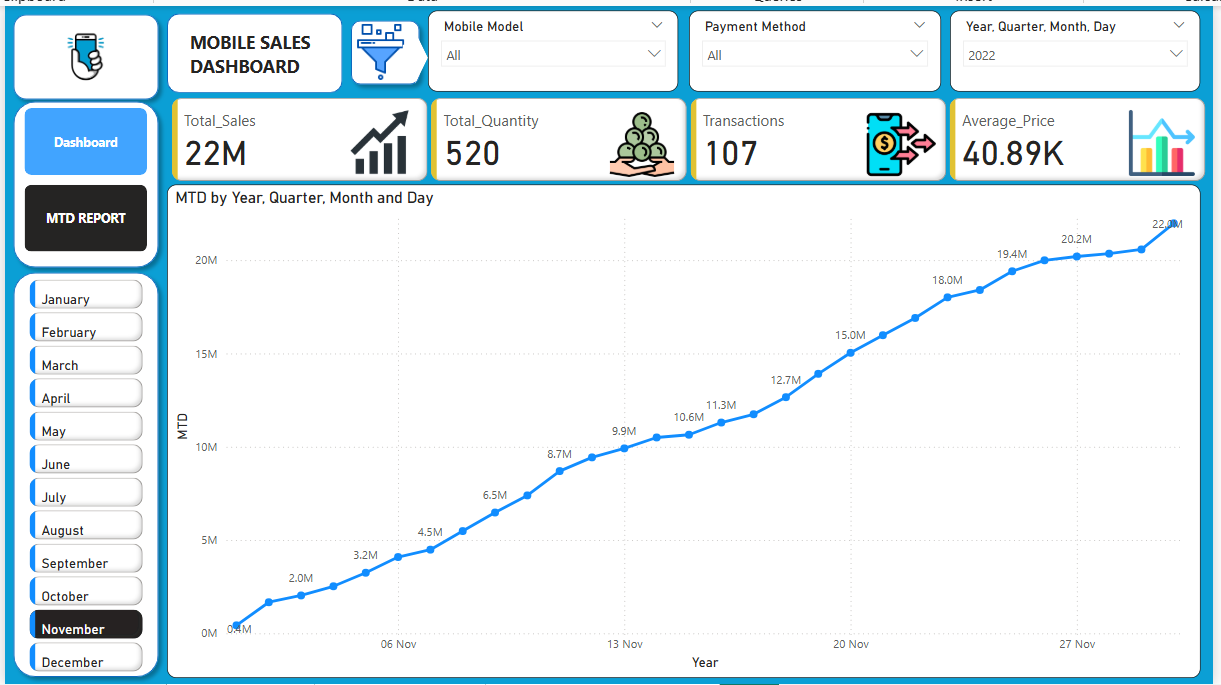

This screenshot's page, from the dashboard's own definition file:
{"tool":"powerbi","page":{"name":"MTD REPORT","canvas":[1280,720],"ordinal":1},"visuals":[{"type":"shape","box":[0,0,171.8,108.2],"z":0},{"type":"image","box":[20.7,15.9,130.4,76.3],"z":1000},{"type":"shape","box":[0,92.3,171.8,194.1],"z":2000},{"type":"cardVisual","fields":{"Data":["Sales_Data.Total_Sales","Sales_Data.Total_Quantity","Sales_Data.Transactions","Sales_Data.Average_Price"]},"box":[171.7,91.7,1108.3,98.3],"z":3000},{"type":"slicer","fields":{"Values":["Sales_Data.Mobile Model"]},"box":[448.6,4.8,265.6,85.9],"z":4000},{"type":"slicer","fields":{"Values":["Sales_Data.Payment Method"]},"box":[725.3,4.8,267.2,85.9],"z":5000},{"type":"slicer","fields":{"Values":["custom_calender.Date.Variation.Date Hierarchy.Year","custom_calender.Date.Variation.Date Hierarchy.Quarter","custom_calender.Date.Variation.Date Hierarchy.Month","custom_calender.Date.Variation.Date Hierarchy.Day"]},"box":[1002.1,4.8,265.6,85.9],"z":6000},{"type":"shape","box":[357.9,6.4,90.7,85.9],"z":7000},{"type":"image","box":[216.3,12.7,364.2,71.6],"z":8000},{"type":"shape","box":[421.5,27,27,55.7],"z":9000},{"type":"shape","box":[171.8,8,186.1,84.3],"z":10000},{"type":"textbox","box":[190.9,20.7,147.9,65.2],"z":11000},{"type":"lineChart","fields":{"Category":["custom_calender.Date.Variation.Date Hierarchy.Year","custom_calender.Date.Variation.Date Hierarchy.Quarter","custom_calender.Date.Variation.Date Hierarchy.Month","custom_calender.Date.Variation.Date Hierarchy.Day"],"Y":["Sales_Data.MTD"]},"box":[171.8,189.3,1095.9,523.3],"z":12000},{"type":"shape","box":[0,273,171.8,447],"z":13000},{"type":"advancedSlicerVisual","fields":{"Values":["custom_calender.Date.Variation.Date Hierarchy.Month"]},"box":[20,285,130,428.3],"z":14000},{"type":"pageNavigator","box":[20.7,108.2,130.4,152.7],"z":14001}]}

Visuals, with their boxes in screenshot pixels (x1, y1, x2, y2), scaled from the page's 1280x720 canvas onto the 1221x685 screenshot:
shape: [x1=0, y1=0, x2=164, y2=103]
image: [x1=20, y1=15, x2=144, y2=88]
shape: [x1=0, y1=88, x2=164, y2=272]
cardVisual - Sales_Data.Total_Sales x Sales_Data.Total_Quantity: [x1=164, y1=87, x2=1220, y2=181]
slicer - Sales_Data.Mobile Model: [x1=428, y1=5, x2=681, y2=86]
slicer - Sales_Data.Payment Method: [x1=692, y1=5, x2=947, y2=86]
slicer - custom_calender.Date.Variation.Date Hierarchy.Year x custom_calender.Date.Variation.Date Hierarchy.Quarter: [x1=956, y1=5, x2=1209, y2=86]
shape: [x1=341, y1=6, x2=428, y2=88]
image: [x1=206, y1=12, x2=554, y2=80]
shape: [x1=402, y1=26, x2=428, y2=79]
shape: [x1=164, y1=8, x2=341, y2=88]
textbox: [x1=182, y1=20, x2=323, y2=82]
lineChart - custom_calender.Date.Variation.Date Hierarchy.Year x custom_calender.Date.Variation.Date Hierarchy.Quarter: [x1=164, y1=180, x2=1209, y2=678]
shape: [x1=0, y1=260, x2=164, y2=684]
advancedSlicerVisual - custom_calender.Date.Variation.Date Hierarchy.Month: [x1=19, y1=271, x2=143, y2=679]
pageNavigator: [x1=20, y1=103, x2=144, y2=248]
